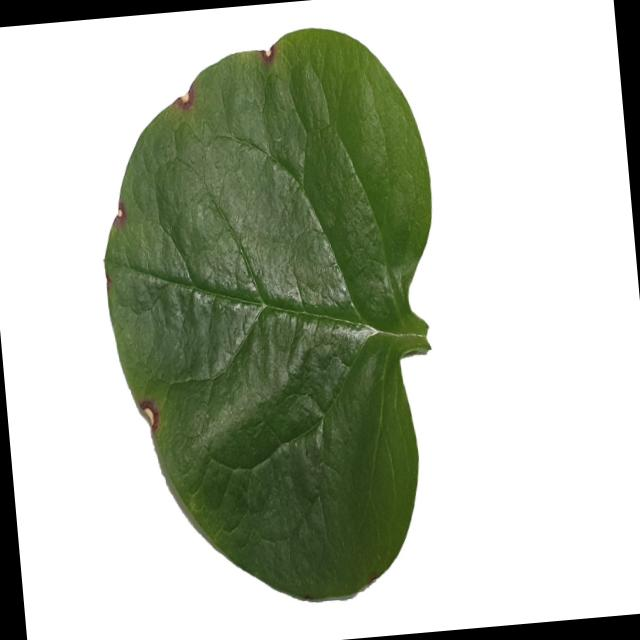Medicinal-Basale: (82, 18, 466, 622)
